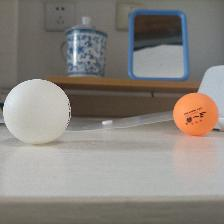WhiteBall: (2, 78, 71, 144)
YellowBall: (172, 92, 218, 136)
